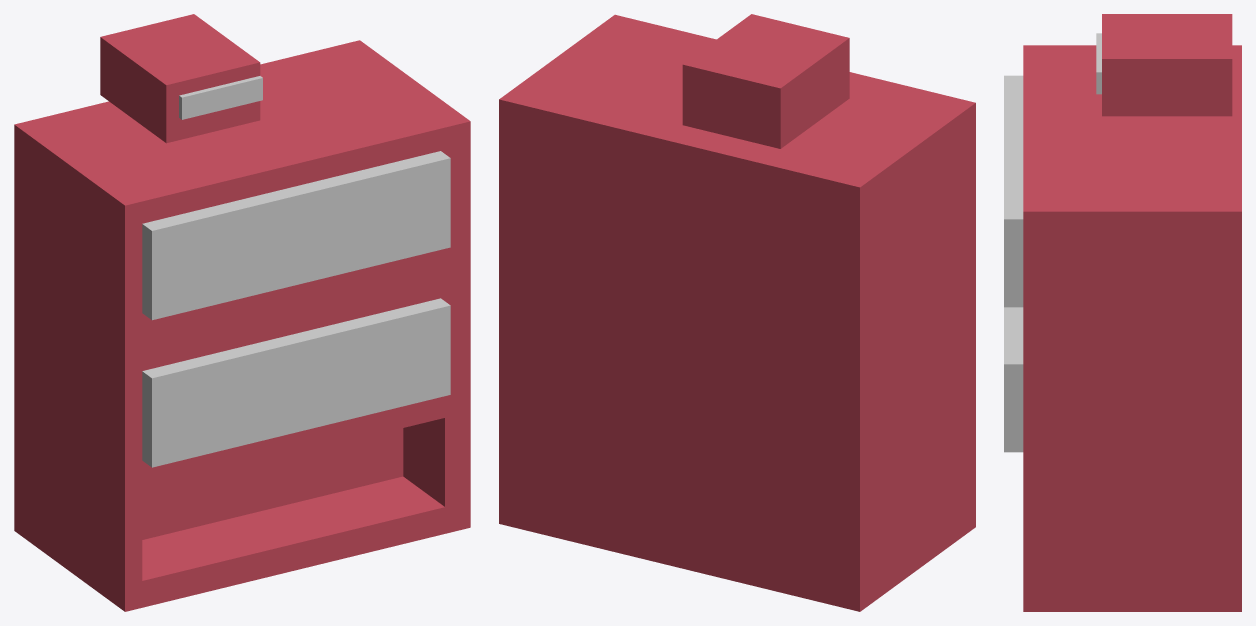
The model's file is Epic Gogo-Lappi.glb.
3 views of the same model, side by side, from view 1: azimuth 30°, elevation 25°; view 2: azimuth 150°, elevation 25°; view 3: azimuth 270°, elevation 25° (orthographic). The views are drawn at different scales.
Parts seen in each view (by area): view 1: Mesh_Mesh_head_geo.001_lambert2SG.001; view 2: Mesh_Mesh_head_geo.001_lambert2SG.001; view 3: Mesh_Mesh_head_geo.001_lambert2SG.001.
Part boxes in pixels (x1,y1,x2,y2): Mesh_Mesh_head_geo.001_lambert2SG.001: (14, 14, 470, 611); Mesh_Mesh_head_geo.001_lambert2SG.001: (499, 14, 975, 611); Mesh_Mesh_head_geo.001_lambert2SG.001: (1004, 14, 1241, 611).
Size of the model in its own units: 81 by 107 by 49.
